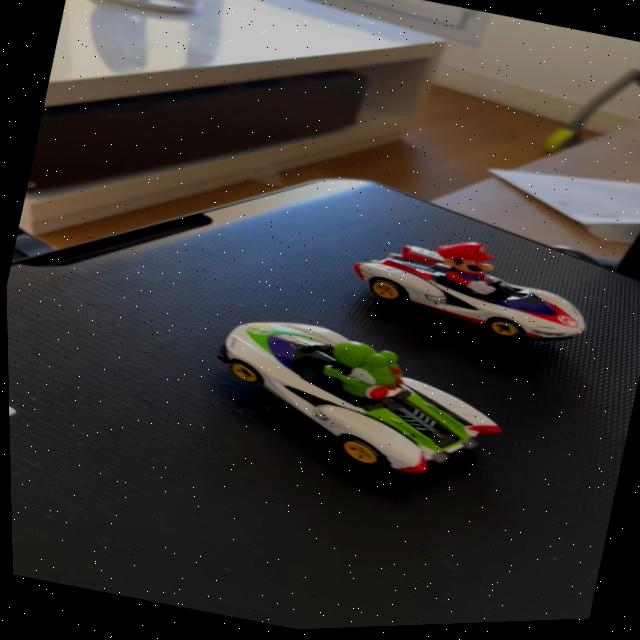mario: (341, 215, 616, 372)
yoshi: (184, 294, 539, 518)
